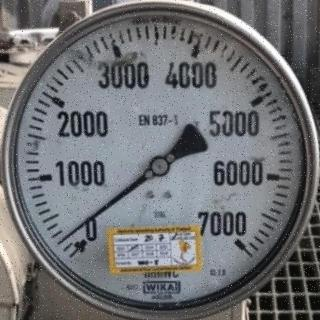gauge: (0, 0, 320, 320), (208, 216, 260, 266), (66, 223, 98, 261), (149, 155, 171, 177), (52, 233, 68, 250)
